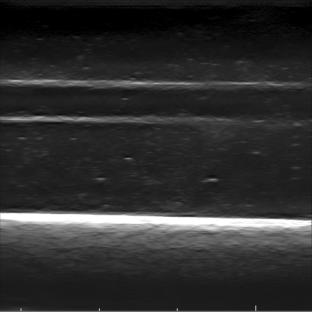vessel: (3, 78, 296, 129)
